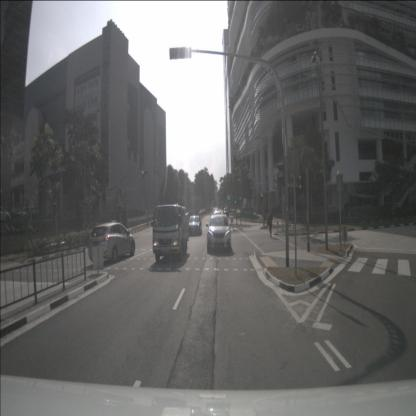human-pedestrian-adult: (268, 210, 273, 240)
vehicle-car: (88, 223, 135, 264), (207, 214, 231, 254), (187, 215, 202, 236), (223, 207, 229, 216)
vehicle-truck: (152, 205, 190, 262)
